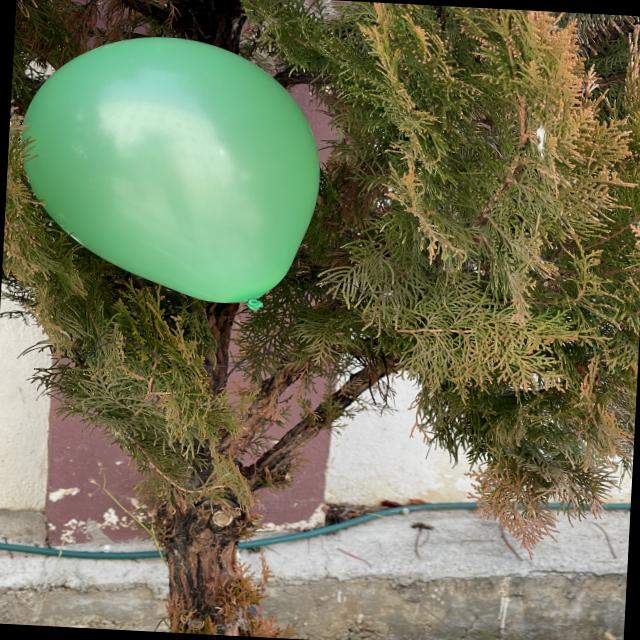balloon: (25, 37, 319, 302), (252, 202, 254, 203)
